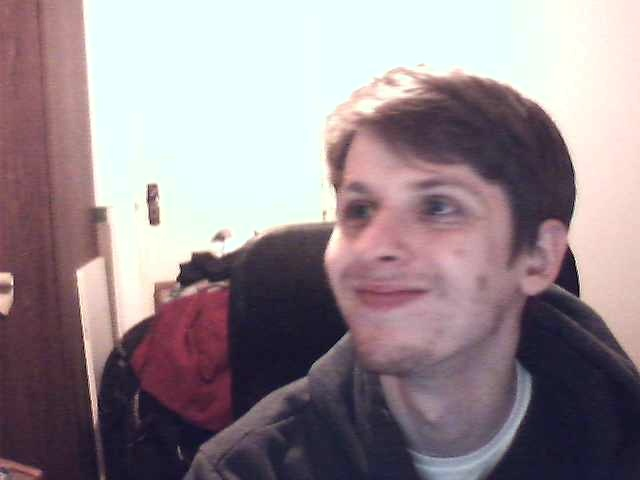noMask: (316, 237, 509, 373)
